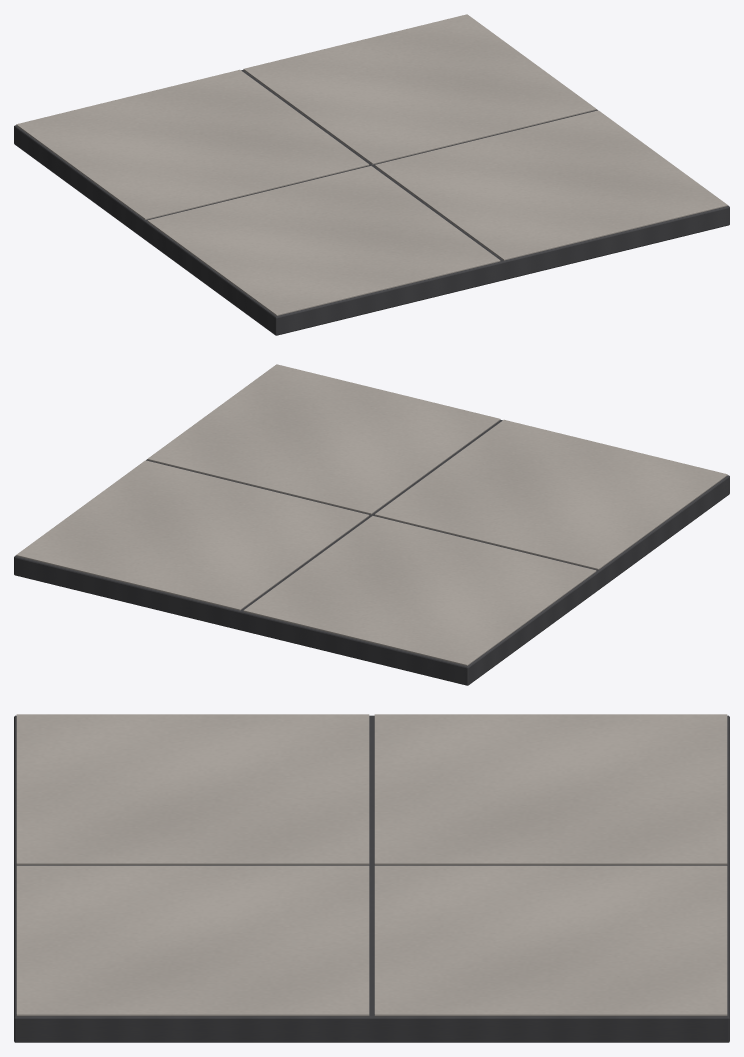
File: office_floor_panel.glb
3 views of the same model, one above another, from view 1: azimuth 30°, elevation 25°; view 2: azimuth 150°, elevation 25°; view 3: azimuth 270°, elevation 25° (orthographic). The views are drawn at different scales.
Parts seen in each view (by area): view 1: floor_tile.001, floor_tile.002, floor_tile.003, floor_tile, floor_base; view 2: floor_tile, floor_tile.003, floor_tile.002, floor_tile.001, floor_base; view 3: floor_tile.002, floor_tile.003, floor_tile, floor_tile.001, floor_base.
Part boxes in pixels (<box>): floor_tile.001: <box>16,69,369,219</box>; floor_tile.002: <box>374,110,727,260</box>; floor_tile.003: <box>243,14,596,164</box>; floor_tile: <box>147,166,500,315</box>; floor_base: <box>14,69,729,335</box>; floor_tile: <box>374,419,727,569</box>; floor_tile.003: <box>16,460,369,610</box>; floor_tile.002: <box>147,364,500,514</box>; floor_tile.001: <box>243,516,596,665</box>; floor_base: <box>14,419,729,685</box>; floor_tile.002: <box>16,865,369,1016</box>; floor_tile.003: <box>374,865,727,1016</box>; floor_tile: <box>16,714,369,864</box>; floor_tile.001: <box>374,714,727,864</box>; floor_base: <box>14,715,729,1042</box>.
Size of the model in its own units: 2 by 0.086 by 2.
2 materials, 2 textured.
